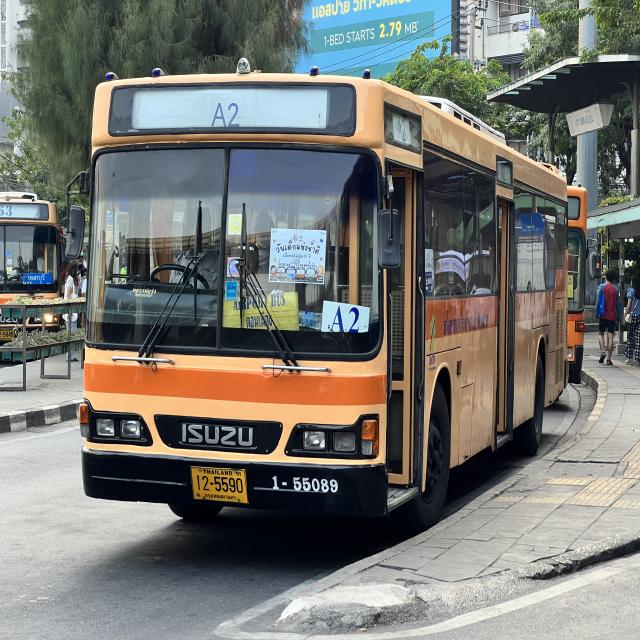BMTA-bus: (78, 69, 571, 526), (570, 184, 593, 385)
Bus Line Number: (198, 96, 253, 136)
Bus Side Number: (262, 466, 350, 502)
Destination Sign: (321, 299, 373, 335)
